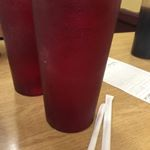cups: (31, 1, 123, 134)
